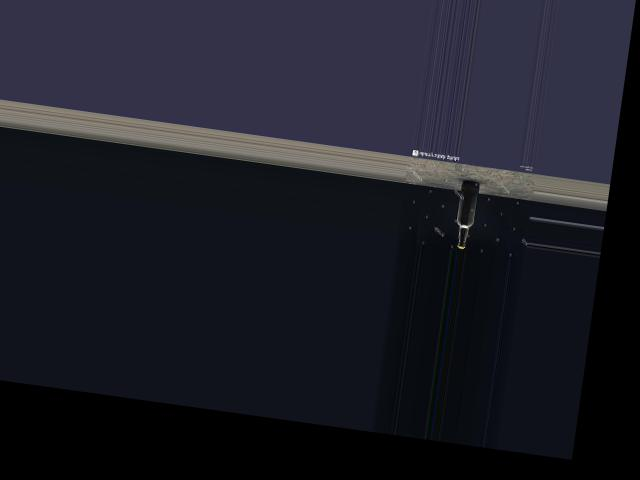beer: (455, 180, 480, 249)
